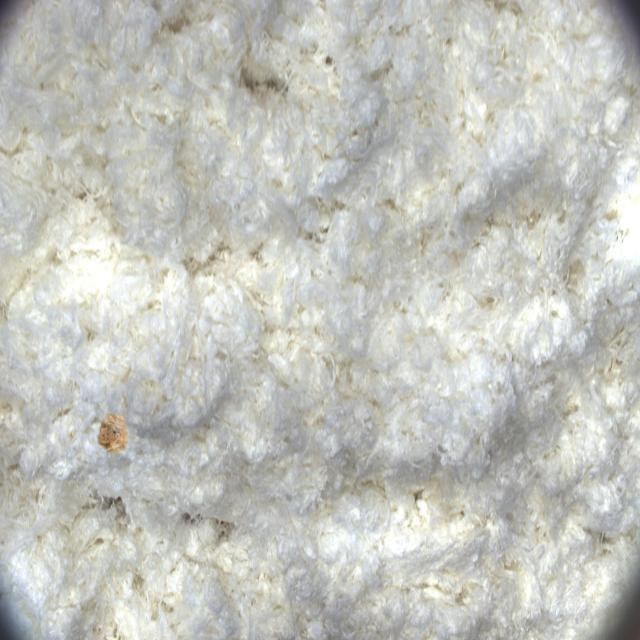dust: (77, 388, 149, 493)
